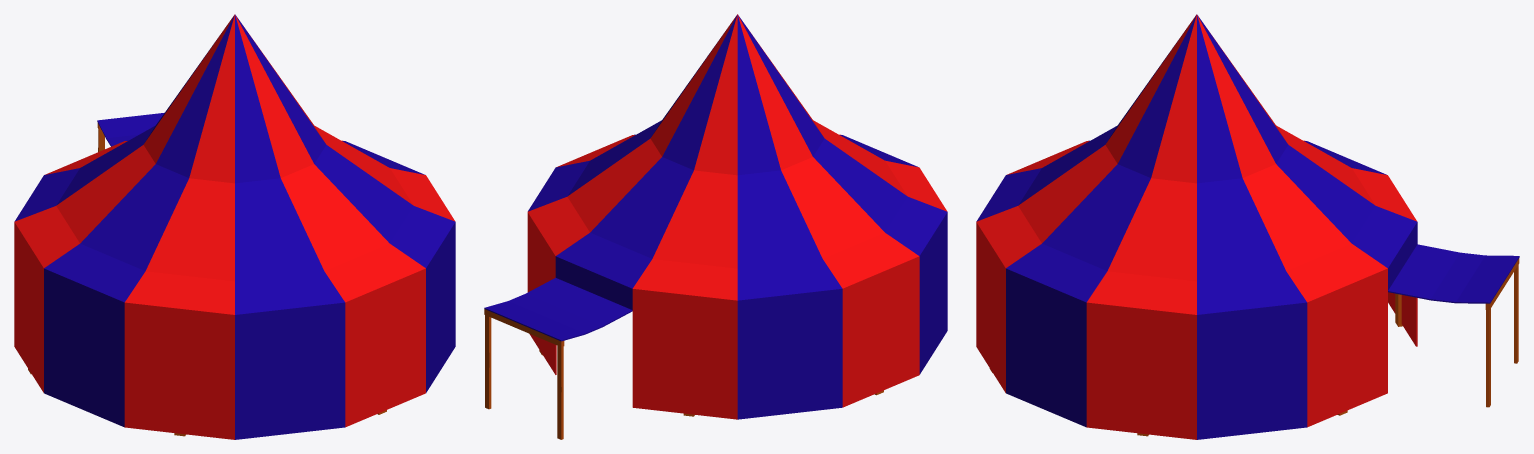
Rendered from FaireTent.fbx.
3 renders of one model, left to right at view 1: azimuth 30°, elevation 25°; view 2: azimuth 150°, elevation 25°; view 3: azimuth 270°, elevation 25°, orthographic. The views are drawn at different scales.
Parts seen in each view (by area): view 1: FaireTent; view 2: FaireTent, Entry; view 3: FaireTent, Entry.
Part boxes in pixels (x1,y1,x2,y2): FaireTent: (14, 14, 455, 439); FaireTent: (484, 14, 947, 419); Entry: (484, 309, 564, 439); FaireTent: (976, 14, 1519, 439); Entry: (1485, 258, 1519, 407).
Size of the model in its own units: 1600 by 1344 by 1971.
